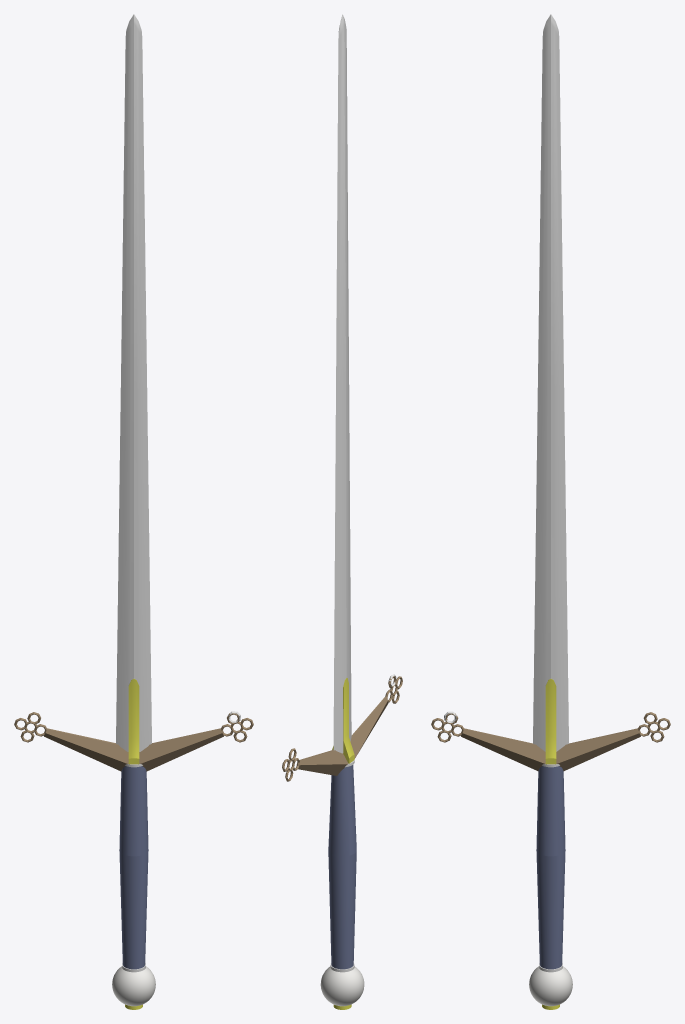
File: Claymore.fbx
3 renders of one model, left to right at view 1: azimuth 90°, elevation 25°; view 2: azimuth 150°, elevation 25°; view 3: azimuth 270°, elevation 25°, orthographic.
Visible parts, largest first — view 1: Plane, Cylinder, Plane.003, Sphere, Plane.001; view 2: Plane, Cylinder, Plane.003, Sphere, Plane.001; view 3: Plane, Cylinder, Plane.003, Sphere, Plane.001.
Part boxes in pixels (bbox=[...]): Plane: bbox=[116, 14, 151, 751]; Cylinder: bbox=[119, 766, 148, 969]; Plane.003: bbox=[14, 712, 253, 771]; Sphere: bbox=[112, 966, 155, 1006]; Plane.001: bbox=[128, 679, 139, 764]; Plane: bbox=[333, 14, 351, 753]; Cylinder: bbox=[328, 765, 356, 969]; Plane.003: bbox=[282, 676, 402, 781]; Sphere: bbox=[320, 966, 364, 1006]; Plane.001: bbox=[332, 678, 354, 763]; Plane: bbox=[533, 14, 568, 751]; Cylinder: bbox=[536, 766, 565, 969]; Plane.003: bbox=[431, 712, 670, 771]; Sphere: bbox=[529, 966, 572, 1006]; Plane.001: bbox=[545, 679, 556, 764].
Bounding box in the file's own units: 27.51 × 687 × 150.
